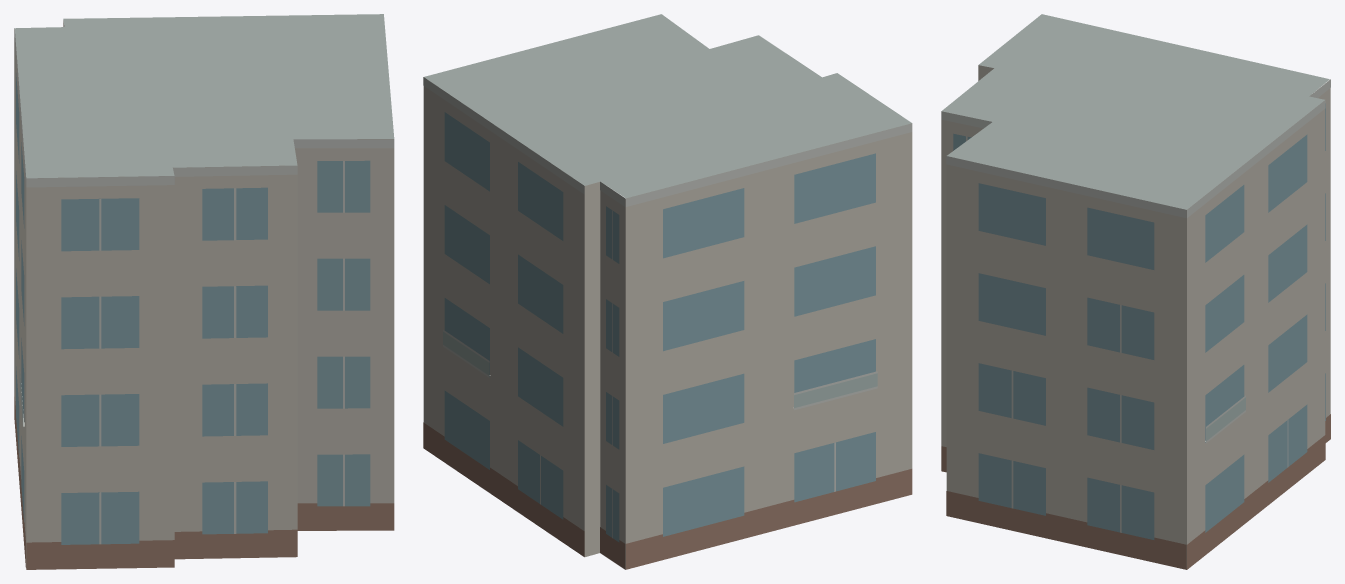
File: survey-upis-32988523.glb
3 renders of one model, left to right at view 1: azimuth 30°, elevation 25°; view 2: azimuth 150°, elevation 25°; view 3: azimuth 270°, elevation 25°, orthographic. The views are drawn at different scales.
Visible parts, largest first — view 1: survey-upis-32988523.tmp; view 2: survey-upis-32988523.tmp; view 3: survey-upis-32988523.tmp.
Boxes of the visible parts, <box> form: survey-upis-32988523.tmp: <box>14,14,394,569</box>; survey-upis-32988523.tmp: <box>423,14,912,569</box>; survey-upis-32988523.tmp: <box>941,14,1330,569</box>.
Size of the model in its own units: 12.14 by 10.4 by 10.2.
